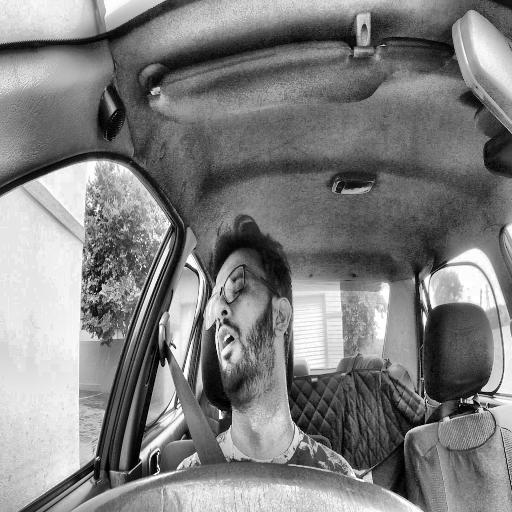drowsy: (202, 213, 294, 407)
